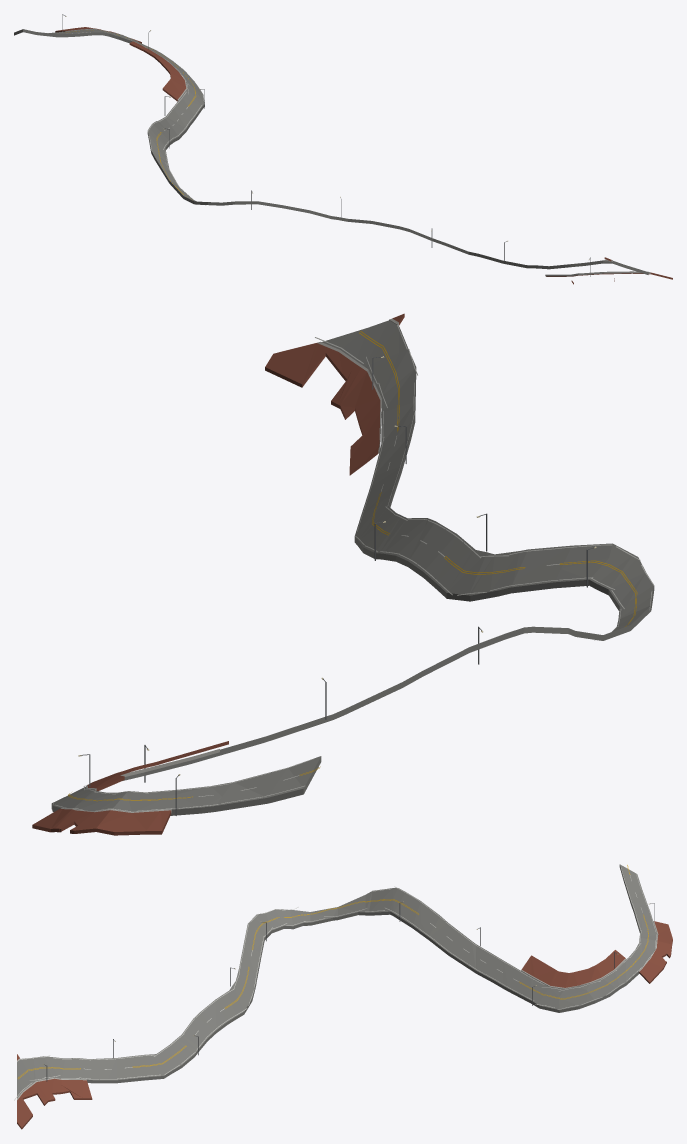
3 views of the same model, one above another, from view 1: azimuth 30°, elevation 25°; view 2: azimuth 150°, elevation 25°; view 3: azimuth 270°, elevation 25° (orthographic). The views are drawn at different scales.
Bounding box in the file's own units: 138 × 45.52 × 238.
